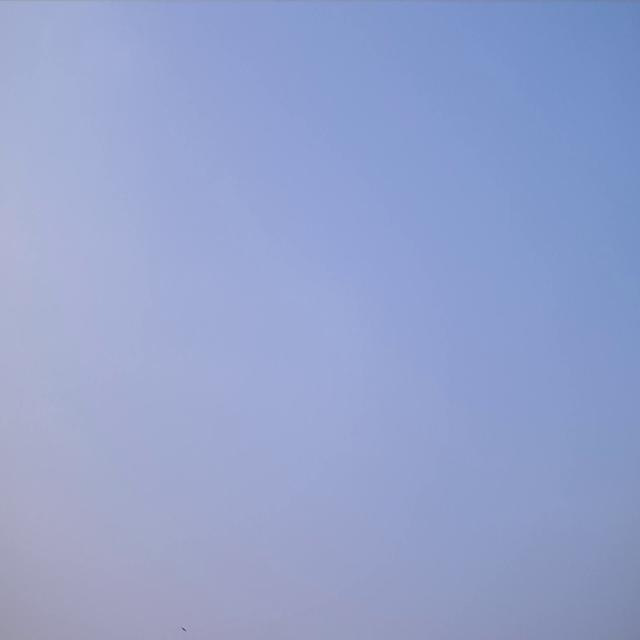UAV: (181, 626, 186, 632)
